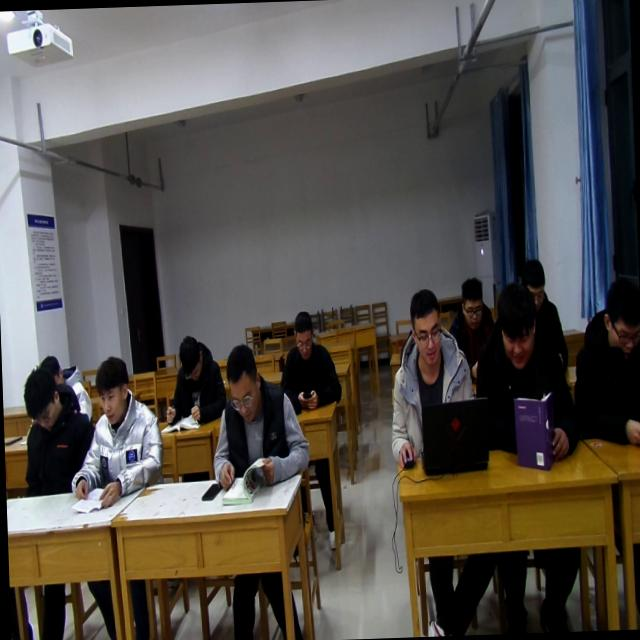down: (490, 278, 540, 372), (222, 340, 268, 424), (599, 272, 640, 354), (407, 286, 445, 368), (18, 362, 59, 434), (95, 352, 132, 429), (454, 270, 486, 332), (288, 304, 318, 362), (176, 324, 202, 382), (518, 252, 547, 304), (39, 345, 64, 385)
sit: (470, 276, 575, 467), (386, 285, 478, 473), (65, 352, 164, 509), (206, 346, 308, 492), (572, 273, 640, 439), (14, 366, 82, 494), (504, 255, 572, 362), (278, 306, 344, 413), (162, 330, 226, 424), (26, 342, 88, 437), (450, 268, 492, 368)
